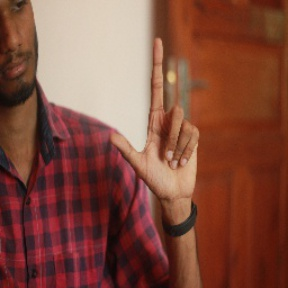L: (110, 37, 201, 194)
